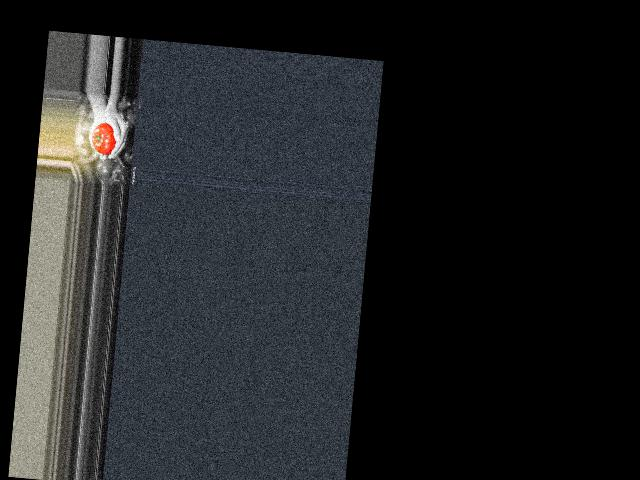tomato: (90, 121, 117, 155)
